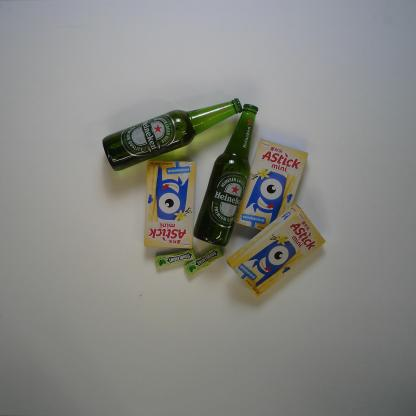Alcohol: (100, 96, 243, 172), (190, 103, 259, 248)
Dessert: (226, 203, 326, 297), (233, 136, 309, 230), (144, 159, 198, 250)
Gum: (184, 246, 224, 277), (153, 247, 196, 270)
